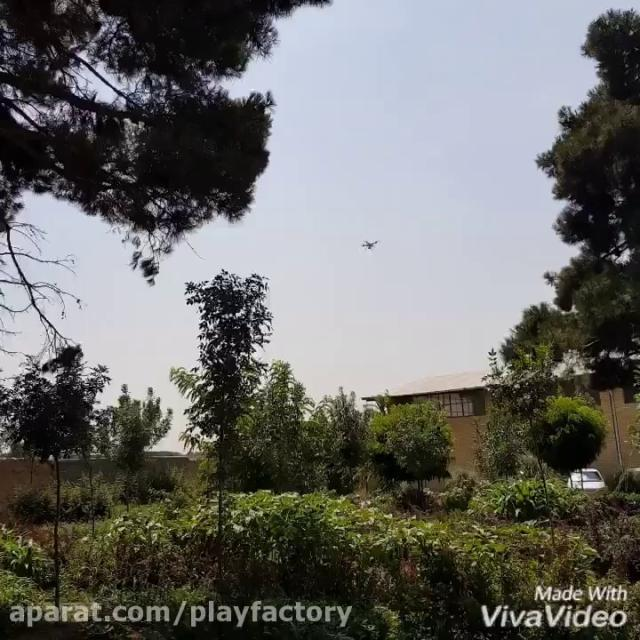drone: (359, 233, 379, 253)
